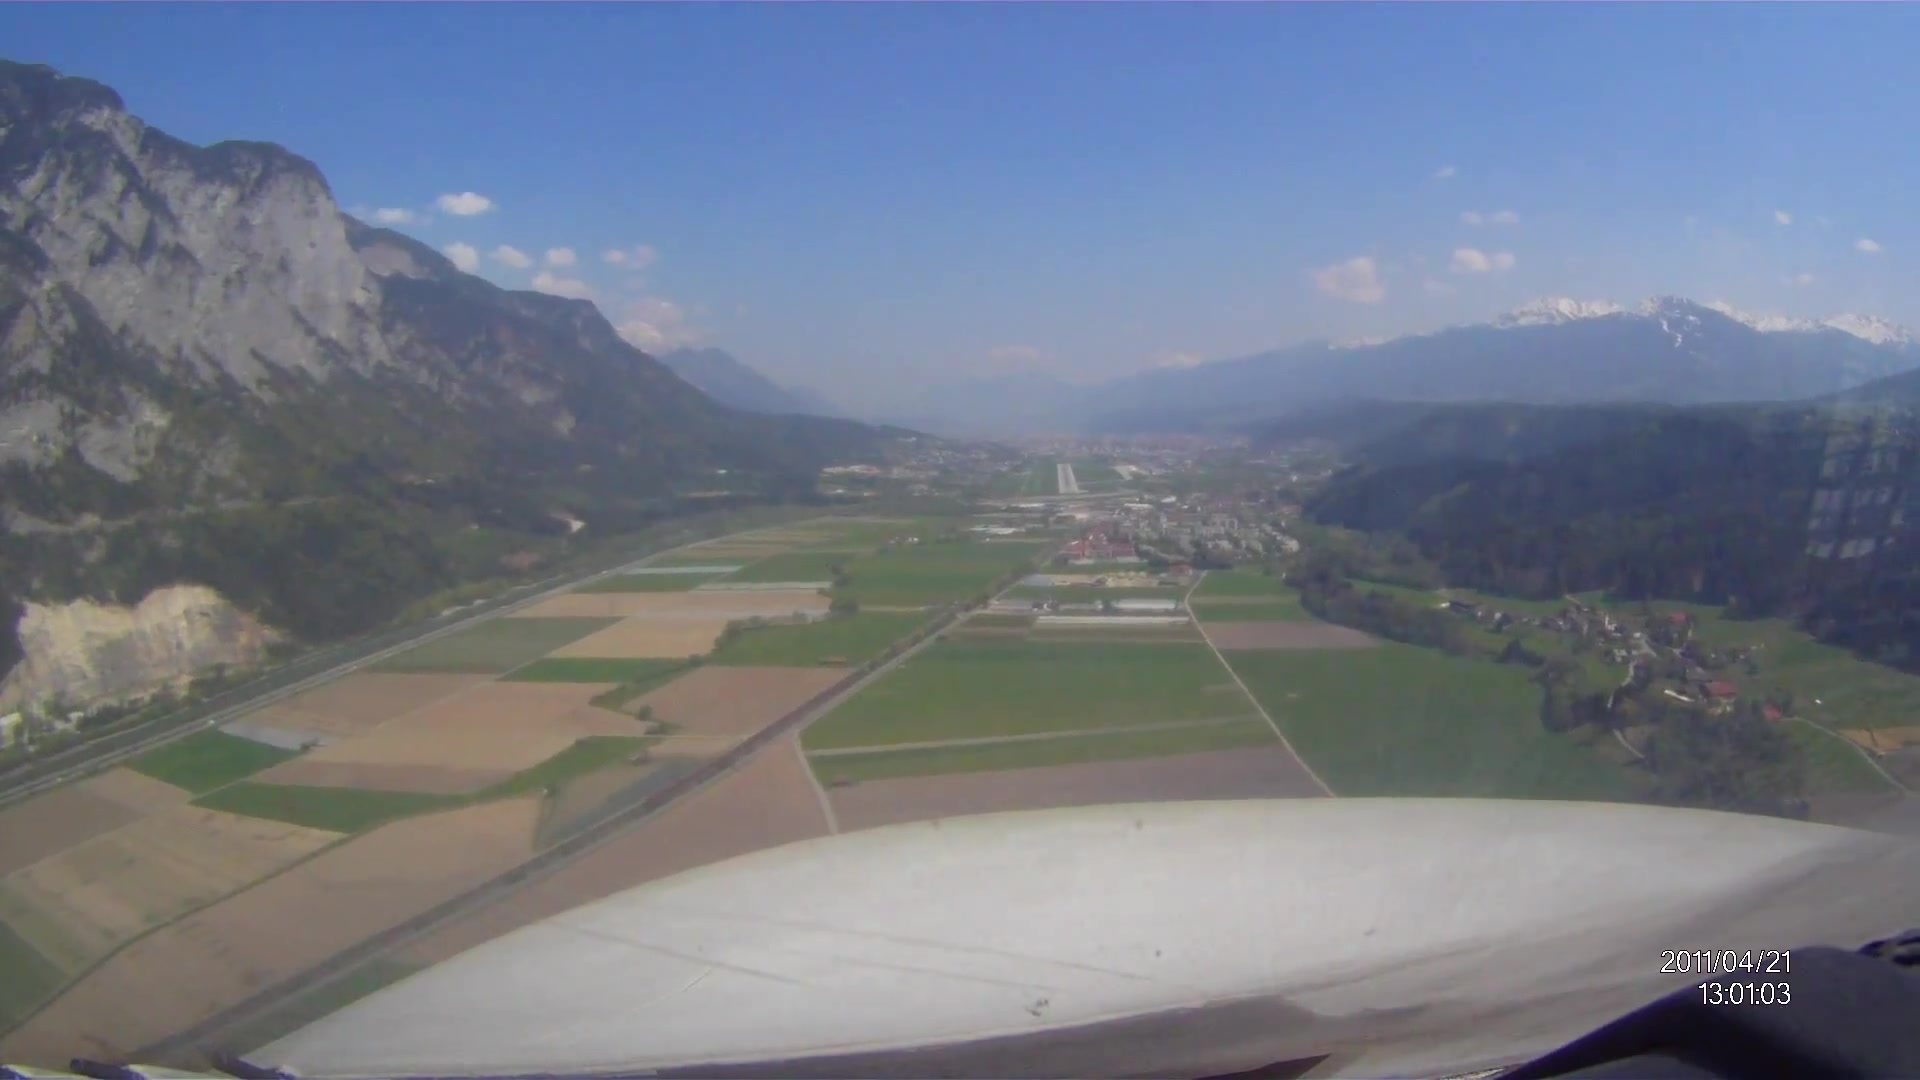runway: (1055, 462, 1079, 496)
